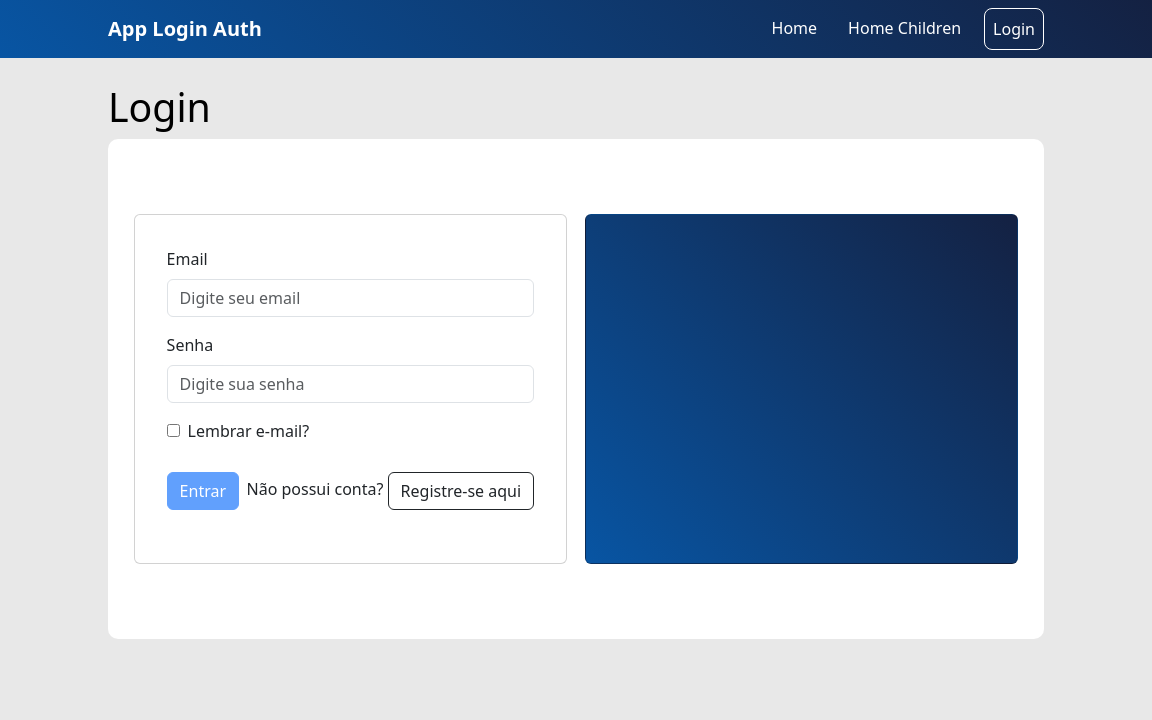
Test case: Login Form › Deve exibir "Senha obrigatória" após limpar o conteúdo do campo de senha
The image size is (1152, 720).
Type "minhaSenha123" into the password field labelled "Senha" at (351, 384), box [167,365,535,403]
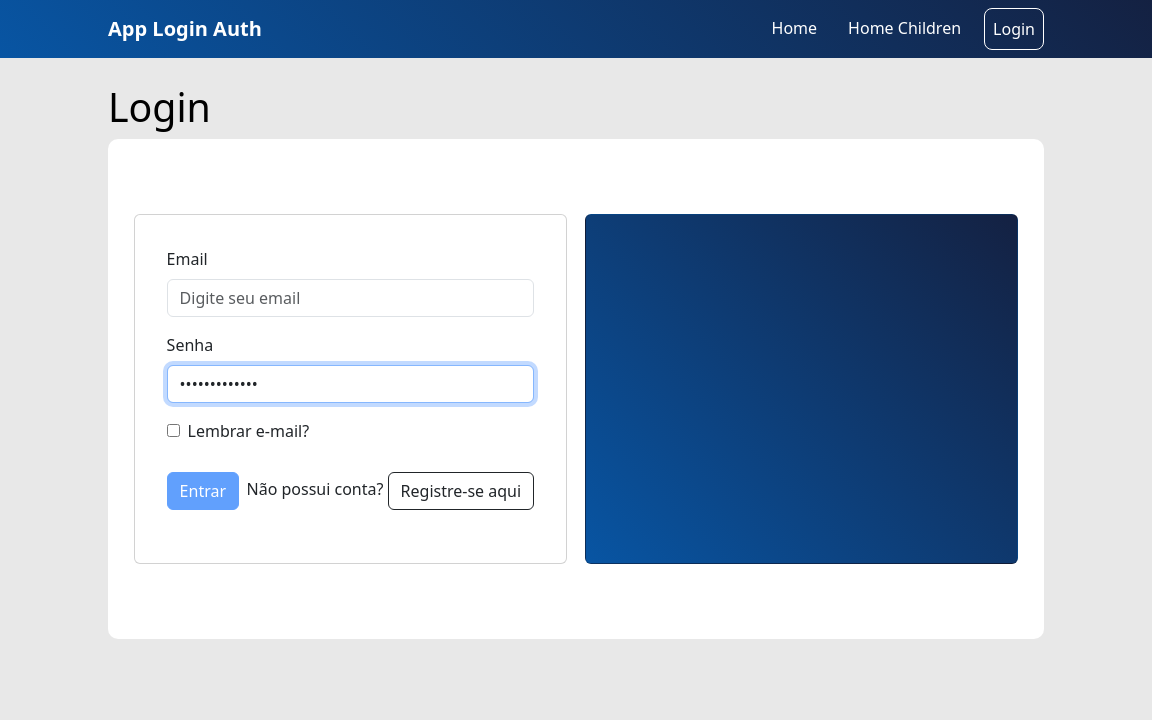
Clear the password field labelled "Senha" at (351, 384), box [167,365,535,403]
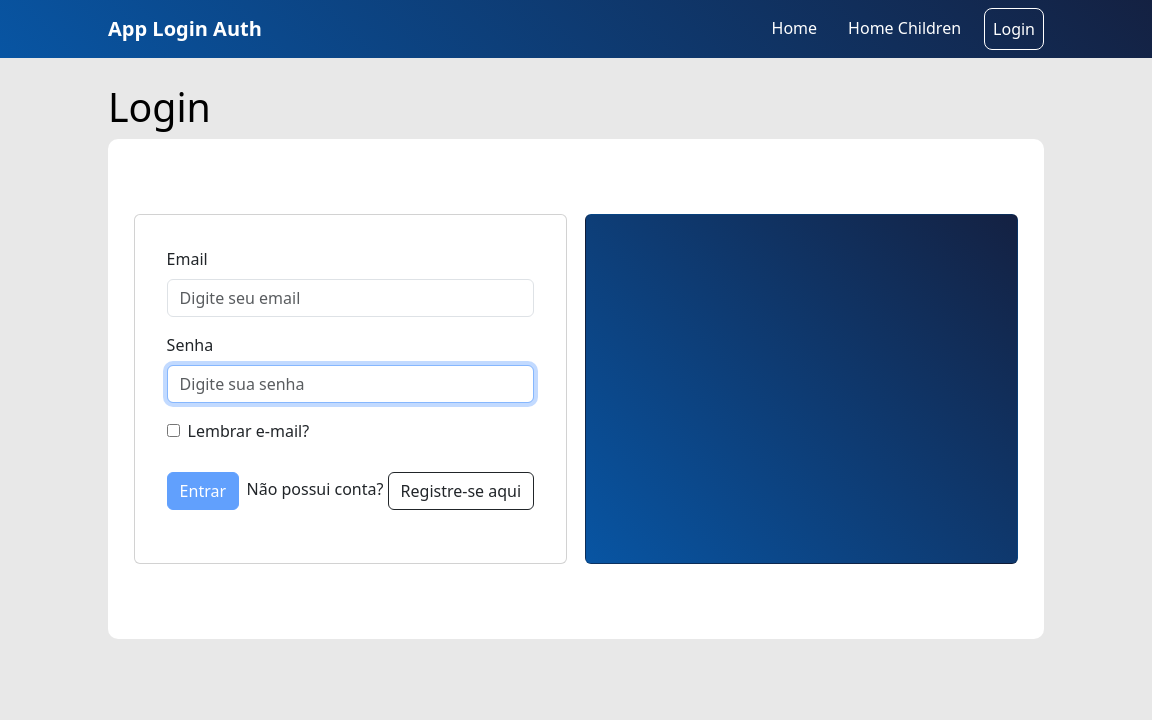
Focus the field with id "email" at (351, 298), box [167,279,535,317]
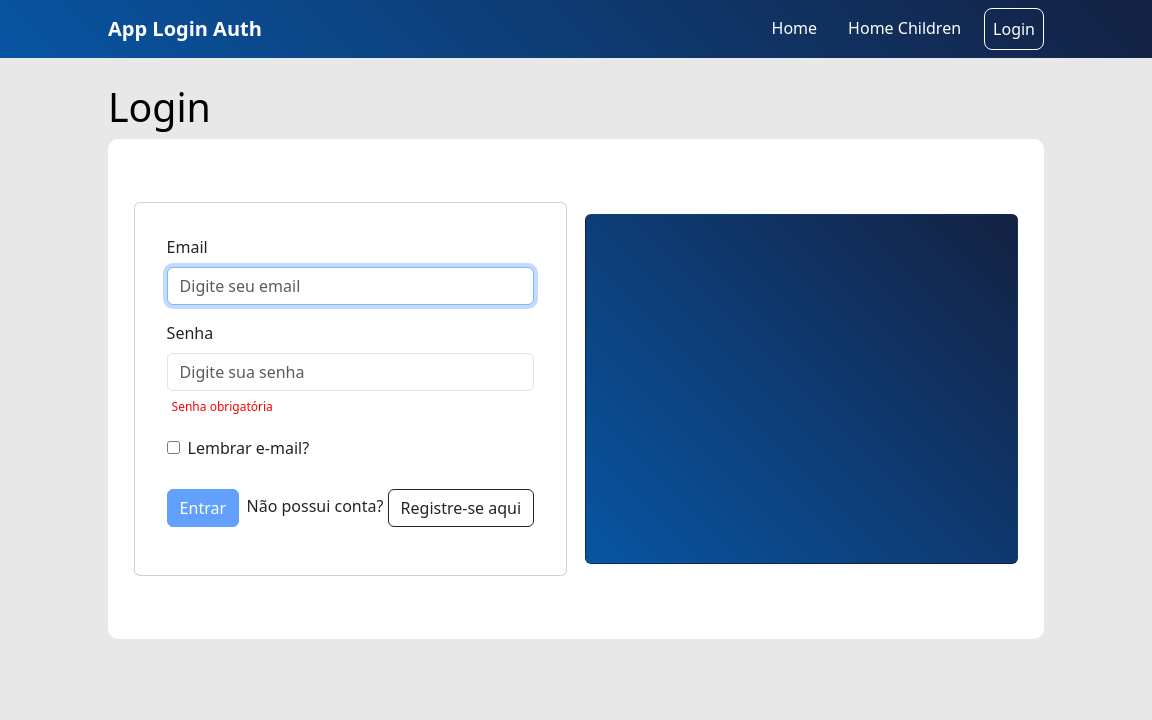
Result: the text "Senha obrigatória" is shown at [172,398,273,415]
